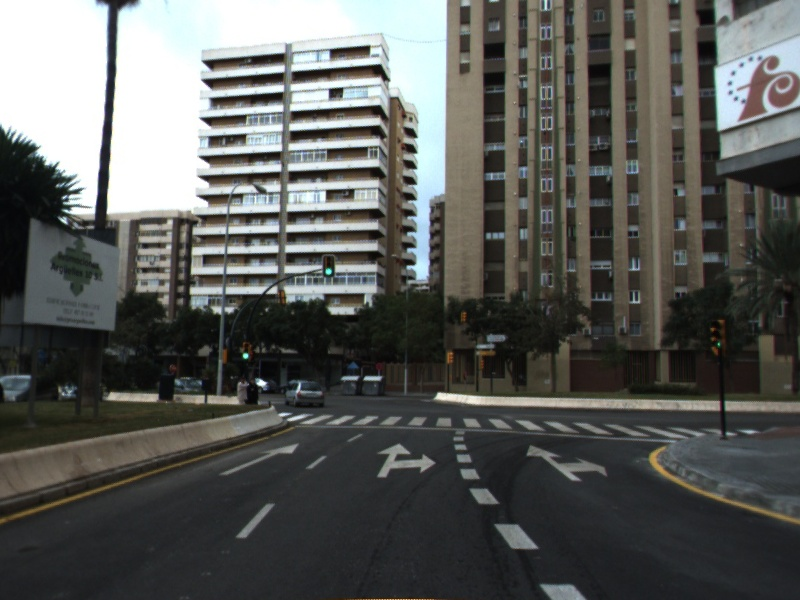STRAIGHT: (216, 441, 302, 477)
STRAIGHT_RIGHT: (525, 443, 609, 483), (375, 441, 439, 480)
